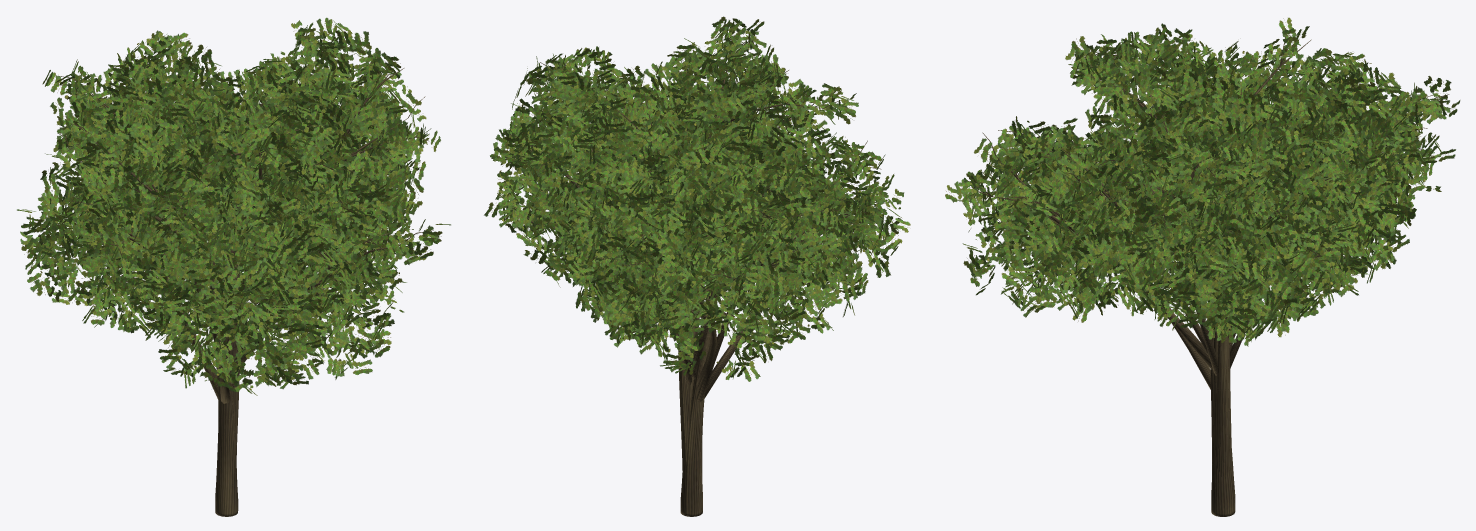
Rendered from trees-v014-maple.glb.
3 views of the same model, side by side, from view 1: azimuth 30°, elevation 25°; view 2: azimuth 150°, elevation 25°; view 3: azimuth 270°, elevation 25° (orthographic). The views are drawn at different scales.
Visible parts, largest first — view 1: tree_maple_1_foliage_leaf, tree_maple_0_foliage_leaf, tree_maple_2_foliage_leaf, tree_maple_1_bark, tree_maple_0_bark; view 2: tree_maple_2_foliage_leaf, tree_maple_1_foliage_leaf, tree_maple_0_foliage_leaf, tree_maple_1_bark, tree_maple_2_bark, tree_maple_0_bark; view 3: tree_maple_2_foliage_leaf, tree_maple_0_foliage_leaf, tree_maple_1_foliage_leaf, tree_maple_1_bark, tree_maple_0_bark, tree_maple_2_bark.
Part boxes in pixels (x1,y1,x2,y2): tree_maple_1_foliage_leaf: [17, 99, 450, 395]; tree_maple_0_foliage_leaf: [42, 48, 440, 320]; tree_maple_2_foliage_leaf: [53, 17, 423, 272]; tree_maple_1_bark: [72, 187, 433, 516]; tree_maple_0_bark: [56, 68, 428, 456]; tree_maple_2_foliage_leaf: [484, 16, 858, 340]; tree_maple_1_foliage_leaf: [538, 54, 910, 381]; tree_maple_0_foliage_leaf: [524, 54, 850, 354]; tree_maple_1_bark: [620, 69, 885, 516]; tree_maple_2_bark: [503, 32, 840, 470]; tree_maple_0_bark: [536, 62, 840, 474]; tree_maple_2_foliage_leaf: [1065, 23, 1455, 343]; tree_maple_0_foliage_leaf: [998, 17, 1460, 328]; tree_maple_1_foliage_leaf: [945, 58, 1432, 346]; tree_maple_1_bark: [961, 132, 1422, 516]; tree_maple_0_bark: [998, 34, 1449, 476]; tree_maple_2_bark: [1076, 43, 1433, 472].
Size of the model in its own units: 12.6 by 15.11 by 14.59.
2 materials, 2 textured.
